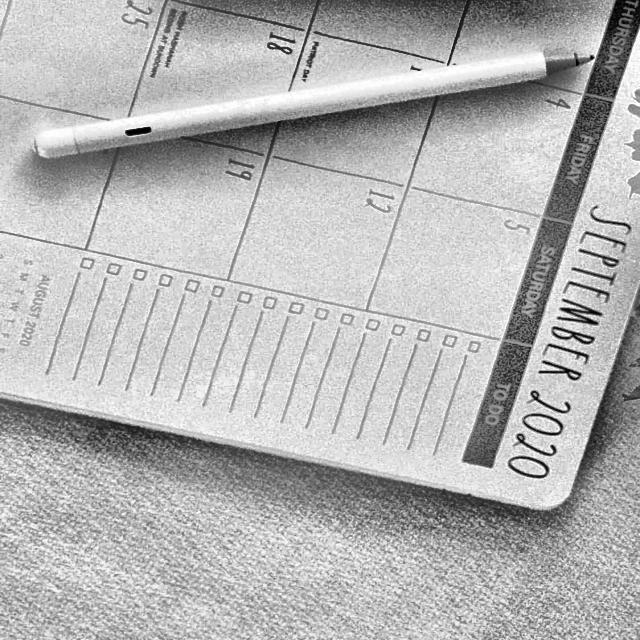Pen: (34, 45, 596, 172)
